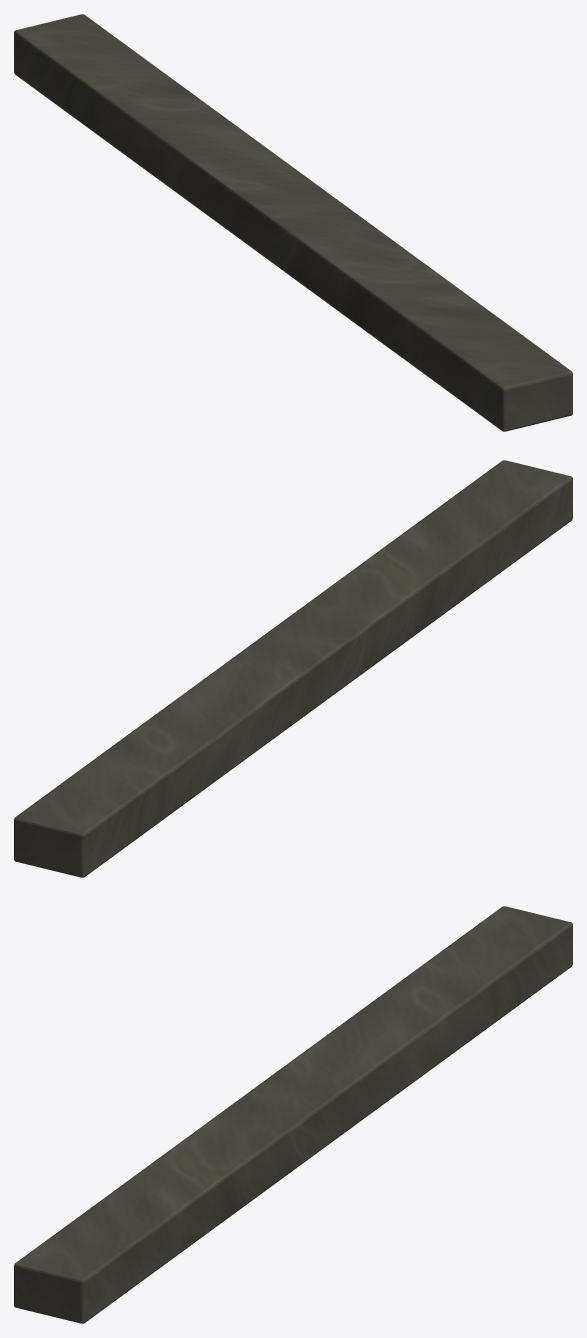
The model's file is lf_arrow_stem-lod2.gltf.
3 views of the same model, one above another, from view 1: azimuth 30°, elevation 25°; view 2: azimuth 150°, elevation 25°; view 3: azimuth 330°, elevation 25° (orthographic).
Visible parts, largest first — view 1: lf_arrow_stem LOD2 lf_arrow_stem; view 2: lf_arrow_stem LOD2 lf_arrow_stem; view 3: lf_arrow_stem LOD2 lf_arrow_stem.
Part boxes in pixels (x1,y1,x2,y2): lf_arrow_stem LOD2 lf_arrow_stem: (14, 14, 572, 431); lf_arrow_stem LOD2 lf_arrow_stem: (14, 460, 572, 877); lf_arrow_stem LOD2 lf_arrow_stem: (14, 906, 572, 1323).
Bounding box in the file's own units: 0.1 × 0.06 × 1.2.
1 material, 1 textured.
